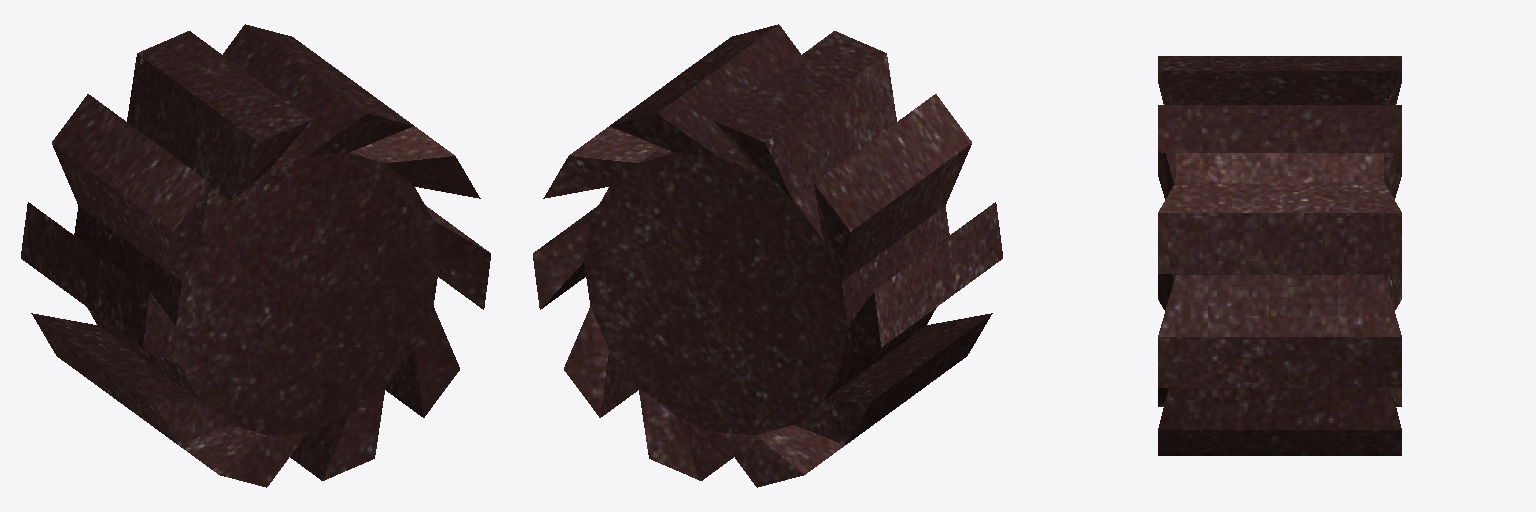
3 views of the same model, side by side, from view 1: azimuth 30°, elevation 25°; view 2: azimuth 150°, elevation 25°; view 3: azimuth 270°, elevation 25° (orthographic).
Parts seen in each view (by area): view 1: pCylinder1; view 2: pCylinder1; view 3: pCylinder1.
Part boxes in pixels (x1,y1,x2,y2): pCylinder1: (21, 24, 490, 487); pCylinder1: (533, 24, 1002, 487); pCylinder1: (1158, 56, 1401, 455).
Size of the model in its own units: 30.91 by 30.83 by 18.73.
Materials: 1 (1 with a texture image).